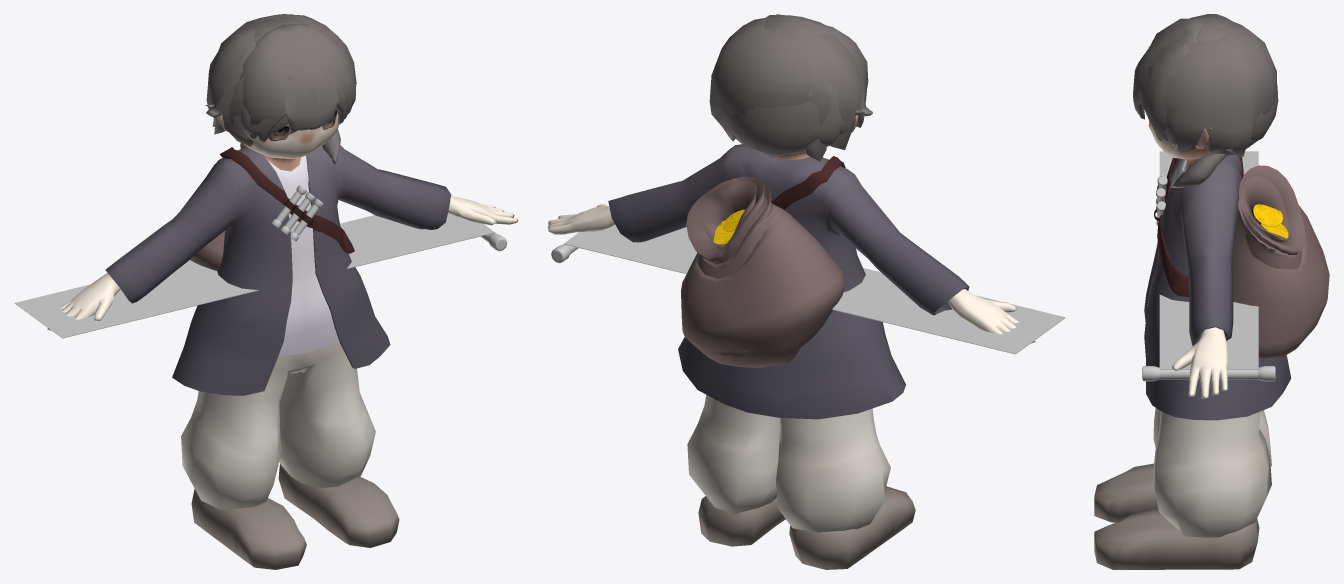
The model's file is Character.fbx.
The picture shows the model from 3 angles, left to right: view 1: azimuth 30°, elevation 25°; view 2: azimuth 150°, elevation 25°; view 3: azimuth 270°, elevation 25°; orthographic projection. The views are drawn at different scales.
Visible parts, largest first — view 1: body6, LongScrollPaper, hair3, hair1, belt, hair2, bag_big; view 2: body6, bag_big, hair1, LongScrollPaper, hair2, bag_middle, bag_small, hair3, belt; view 3: body6, hair1, bag_big, hair3, LongScrollPaper, bag_middle, bag_small, belt, pCylinder49, hair2, pCylinder48, ShortScrollPaper (+1 smaller).
Boxes of the visible parts, bbox=[...] form: body6: bbox=[47, 110, 518, 569]; LongScrollPaper: bbox=[14, 215, 495, 338]; hair3: bbox=[207, 16, 355, 165]; hair1: bbox=[206, 14, 356, 146]; belt: bbox=[219, 147, 354, 253]; hair2: bbox=[205, 22, 346, 143]; bag_big: bbox=[189, 230, 225, 270]; body6: bbox=[547, 115, 1035, 569]; bag_big: bbox=[681, 186, 846, 368]; hair1: bbox=[709, 14, 872, 161]; LongScrollPaper: bbox=[564, 227, 1065, 354]; hair2: bbox=[720, 25, 865, 155]; bag_middle: bbox=[686, 176, 773, 358]; bag_small: bbox=[699, 181, 757, 361]; hair3: bbox=[736, 15, 868, 153]; belt: bbox=[771, 156, 845, 209]; body6: bbox=[1094, 121, 1291, 569]; hair1: bbox=[1144, 14, 1276, 157]; bag_big: bbox=[1232, 198, 1329, 360]; hair3: bbox=[1133, 17, 1256, 187]; LongScrollPaper: bbox=[1159, 151, 1258, 369]; bag_middle: bbox=[1239, 165, 1305, 269]; bag_small: bbox=[1241, 176, 1290, 242]; belt: bbox=[1154, 156, 1243, 297]; pCylinder49: bbox=[1159, 369, 1258, 379]; hair2: bbox=[1144, 26, 1278, 150]; pCylinder48: bbox=[1142, 366, 1275, 381]; ShortScrollPaper: bbox=[1159, 357, 1258, 367].
Size of the model in its own units: 111 by 110 by 46.24.
